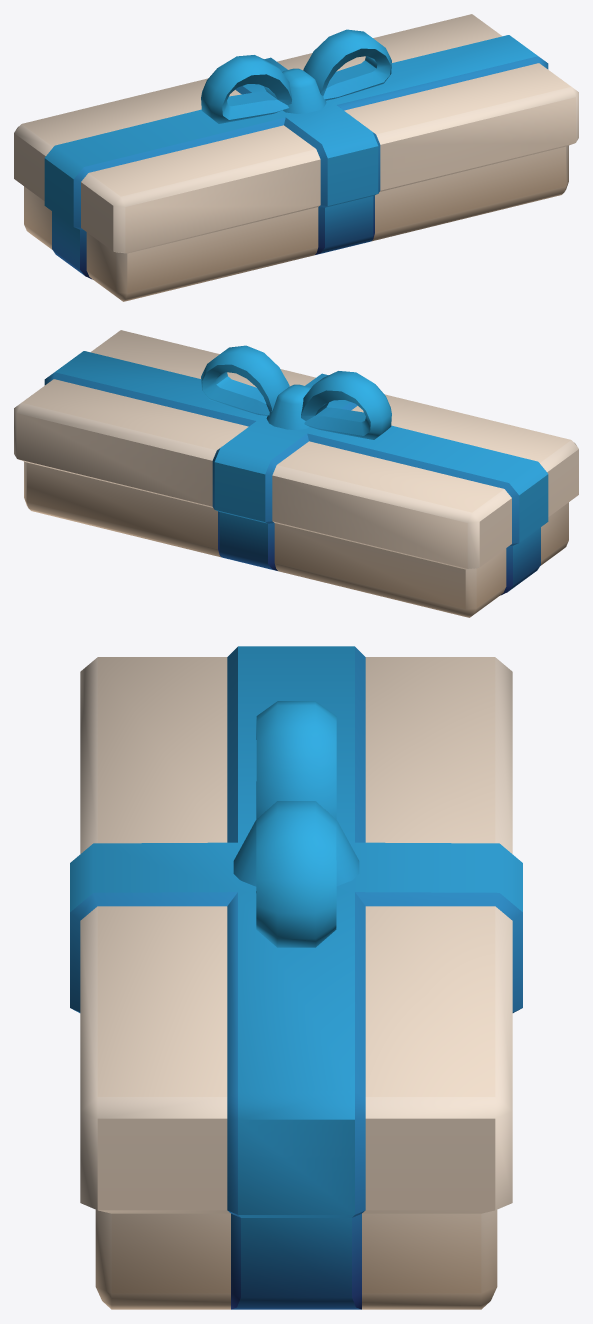
Rendered from present_E_white.glb.
The picture shows the model from 3 angles, top to bottom: view 1: azimuth 30°, elevation 25°; view 2: azimuth 150°, elevation 25°; view 3: azimuth 270°, elevation 25°; orthographic projection. The views are drawn at different scales.
Visible parts, largest first — view 1: present_E_white; view 2: present_E_white; view 3: present_E_white.
Part boxes in pixels (<box>): present_E_white: <box>14,14,578,301</box>; present_E_white: <box>14,330,578,617</box>; present_E_white: <box>70,646,522,1309</box>.
Size of the model in its own units: 1.36 by 0.4617 by 0.5638.
1 material, 1 textured.
